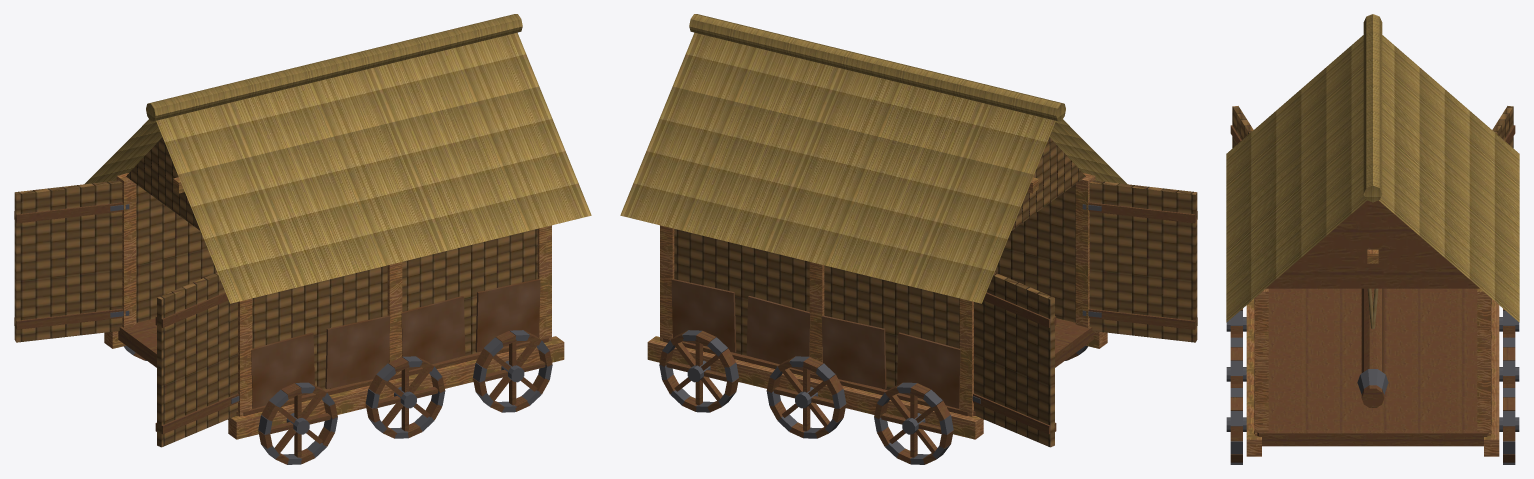
The model's file is engine.glb.
The picture shows the model from 3 angles, left to right: view 1: azimuth 30°, elevation 25°; view 2: azimuth 150°, elevation 25°; view 3: azimuth 270°, elevation 25°; orthographic projection. The views are drawn at different scales.
Parts seen in each view (by area): view 1: box; view 2: box; view 3: box.
Part boxes in pixels (box(x1,y1,x2,y2)): box: box(14, 14, 591, 464); box: box(620, 14, 1197, 464); box: box(1226, 14, 1519, 464).
Size of the model in its own units: 6.77 by 4.6 by 3.93.
7 materials, 6 textured.
